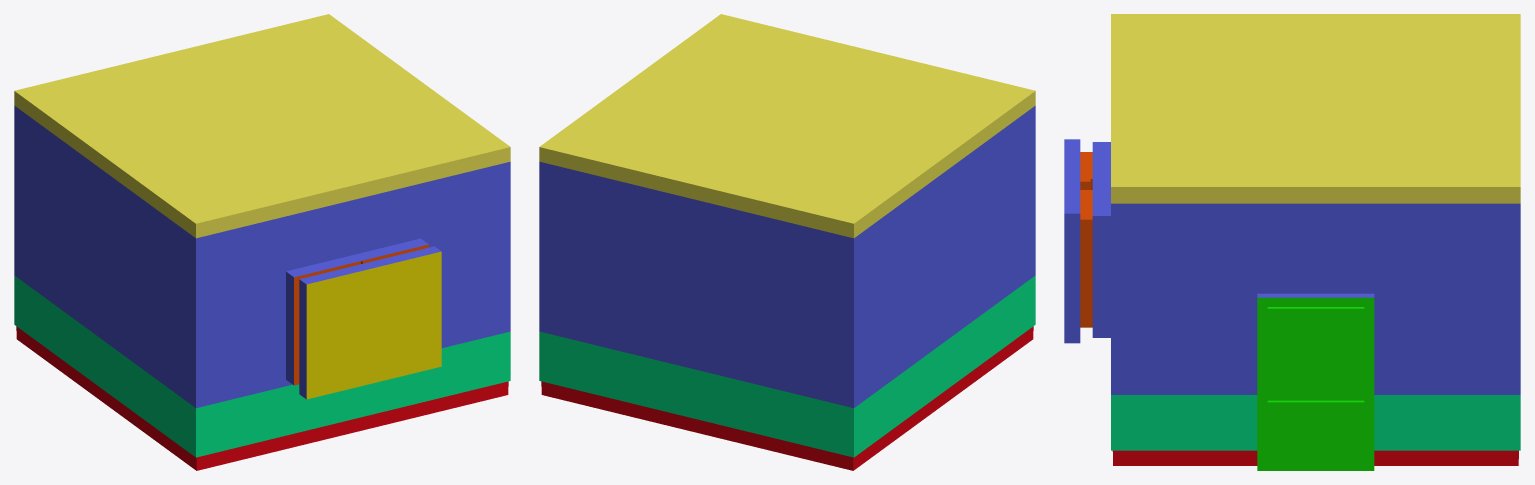
The model's file is Office.fbx.
3 renders of one model, left to right at view 1: azimuth 30°, elevation 25°; view 2: azimuth 150°, elevation 25°; view 3: azimuth 270°, elevation 25°, orthographic. The views are drawn at different scales.
Parts seen in each view (by area): view 1: Office; view 2: Office; view 3: Office.
Part boxes in pixels (box(x1,y1,x2,y2)): Office: box(14, 14, 510, 470); Office: box(539, 14, 1035, 470); Office: box(1064, 14, 1520, 470).
Size of the model in its own units: 209 by 152 by 225.
